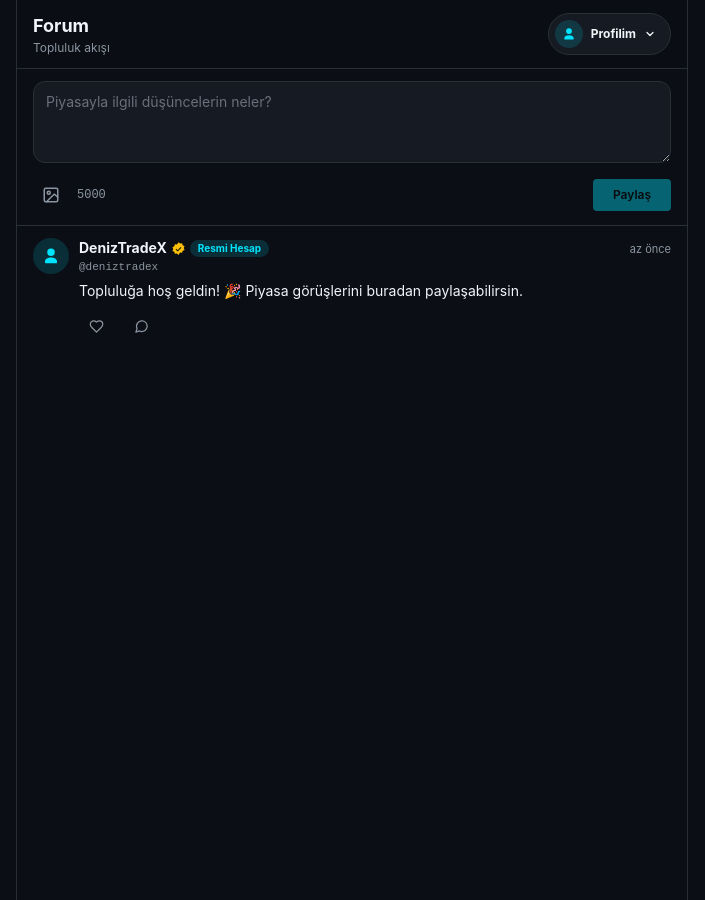
ForumPage › toggles likes optimistically
The width and height of the screenshot is (705, 900).
Expected: the text "Topluluğa hoş geldin" is shown, left=79, top=282, right=523, bottom=298
What coordinates should you click on to do the following:
click the button named "Beğen"
I would click on:
 (100, 326)
Its box is left=79, top=310, right=120, bottom=342.
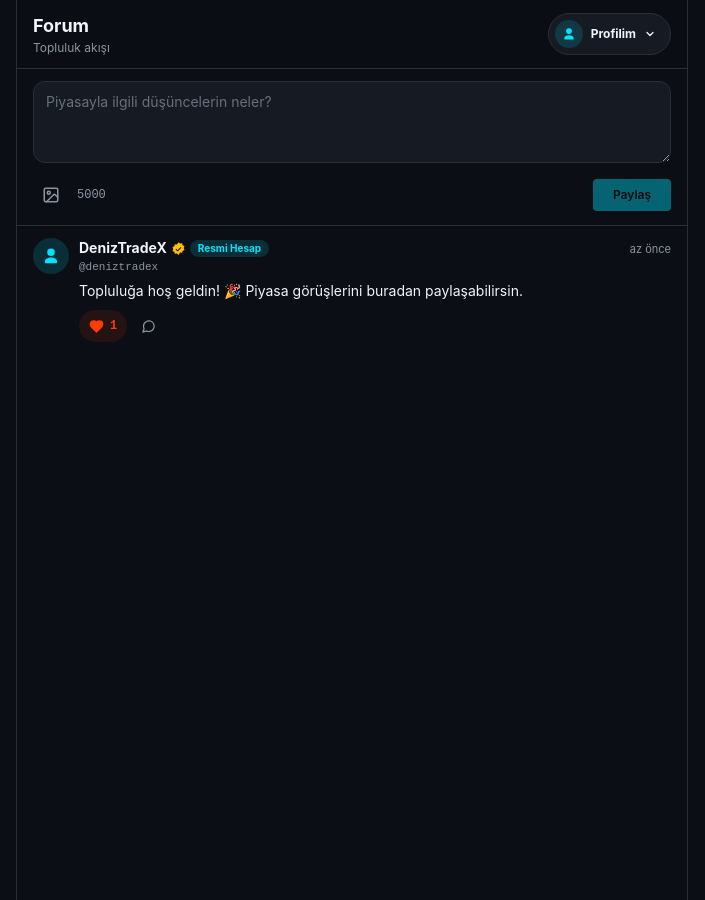
Expected: the button named "Beğeniyi geri al" is shown, left=79, top=310, right=127, bottom=342
